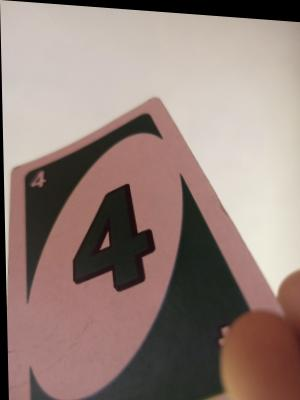num_4: (25, 167, 60, 196)
